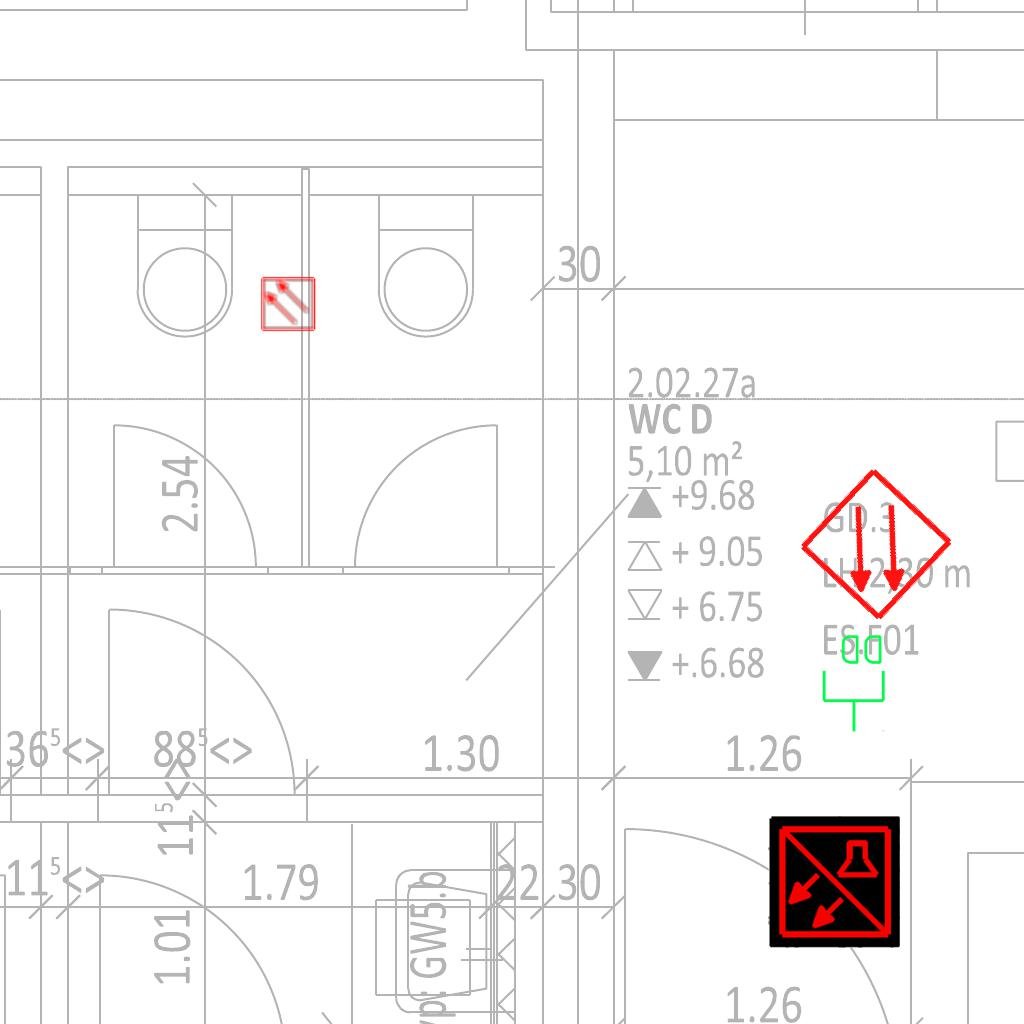Datenanschluss_zweifach: (820, 631, 889, 734)
OKW_Multisensormelder_(Kombination_optischer_Rauch-Kahlenmonoxid_Waerme-Melder): (768, 816, 900, 948)
RMO_Rauchmelder_optischer: (796, 464, 957, 625), (260, 276, 316, 332)
